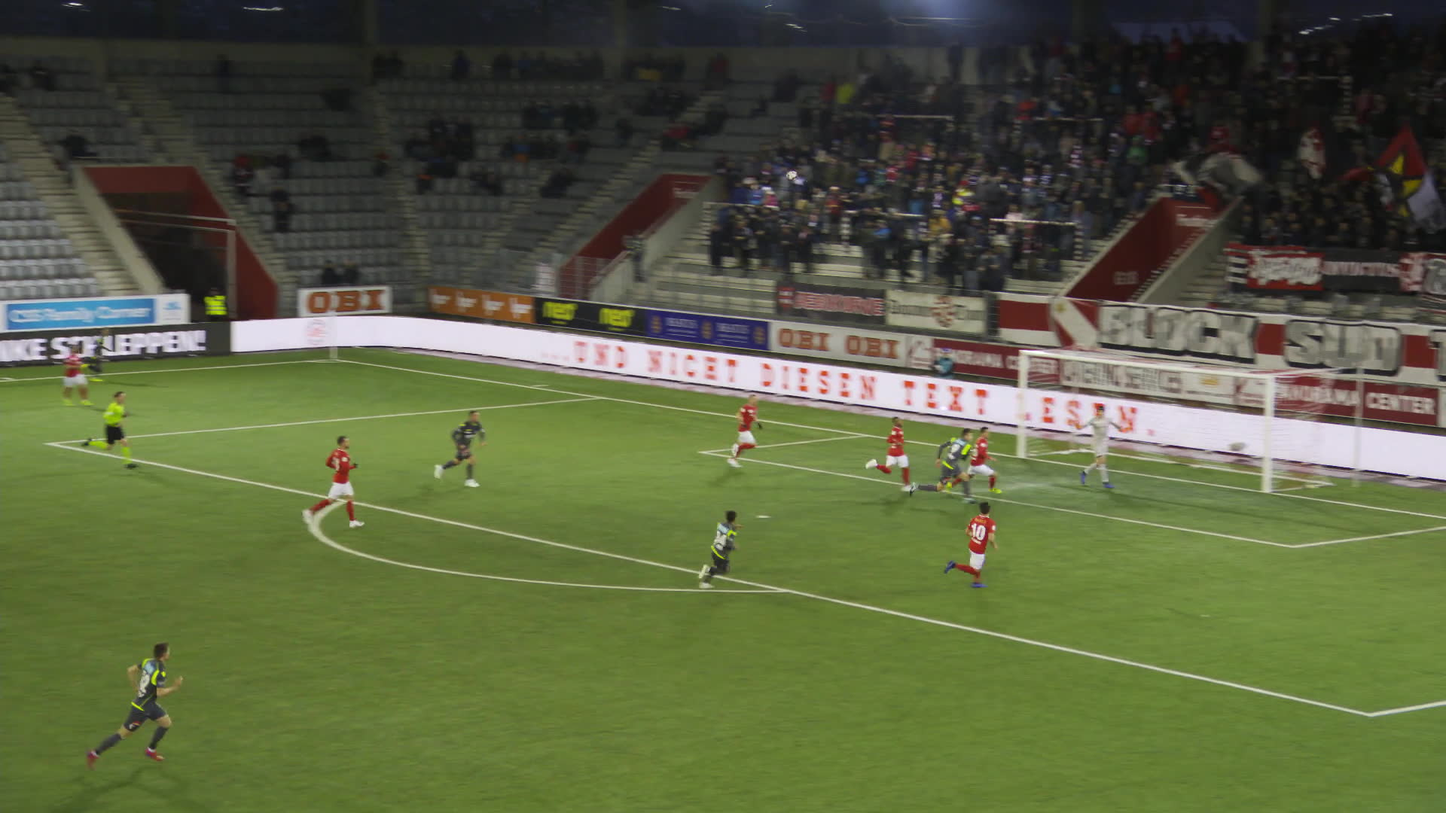ball: (780, 169, 792, 178)
player: (81, 639, 185, 763), (902, 426, 979, 504), (940, 501, 997, 591), (313, 437, 366, 531), (1079, 405, 1134, 490), (432, 408, 488, 487), (864, 414, 917, 492), (695, 507, 746, 587), (726, 391, 768, 470), (957, 425, 1001, 495), (1, 470, 32, 568), (79, 324, 111, 385), (66, 344, 98, 402)
referee: (90, 391, 141, 468)
